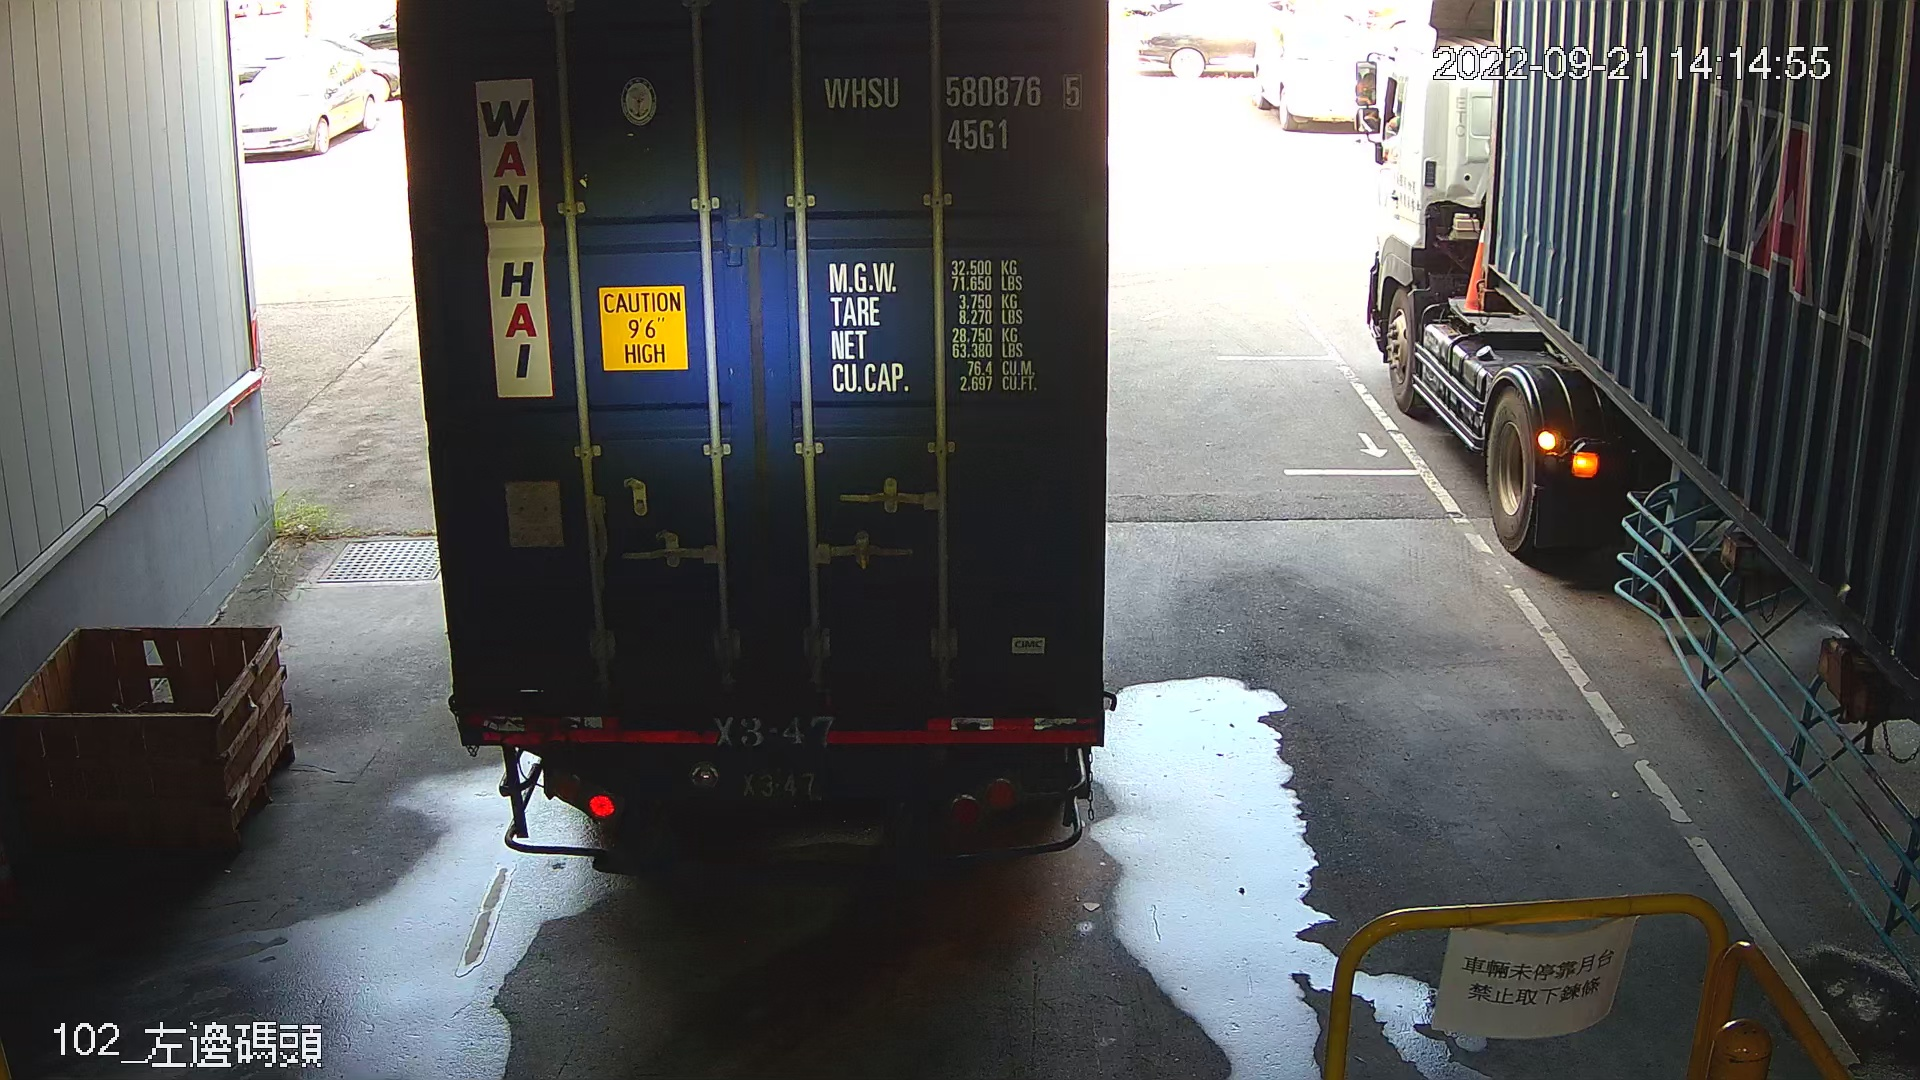container: (814, 65, 1092, 158)
